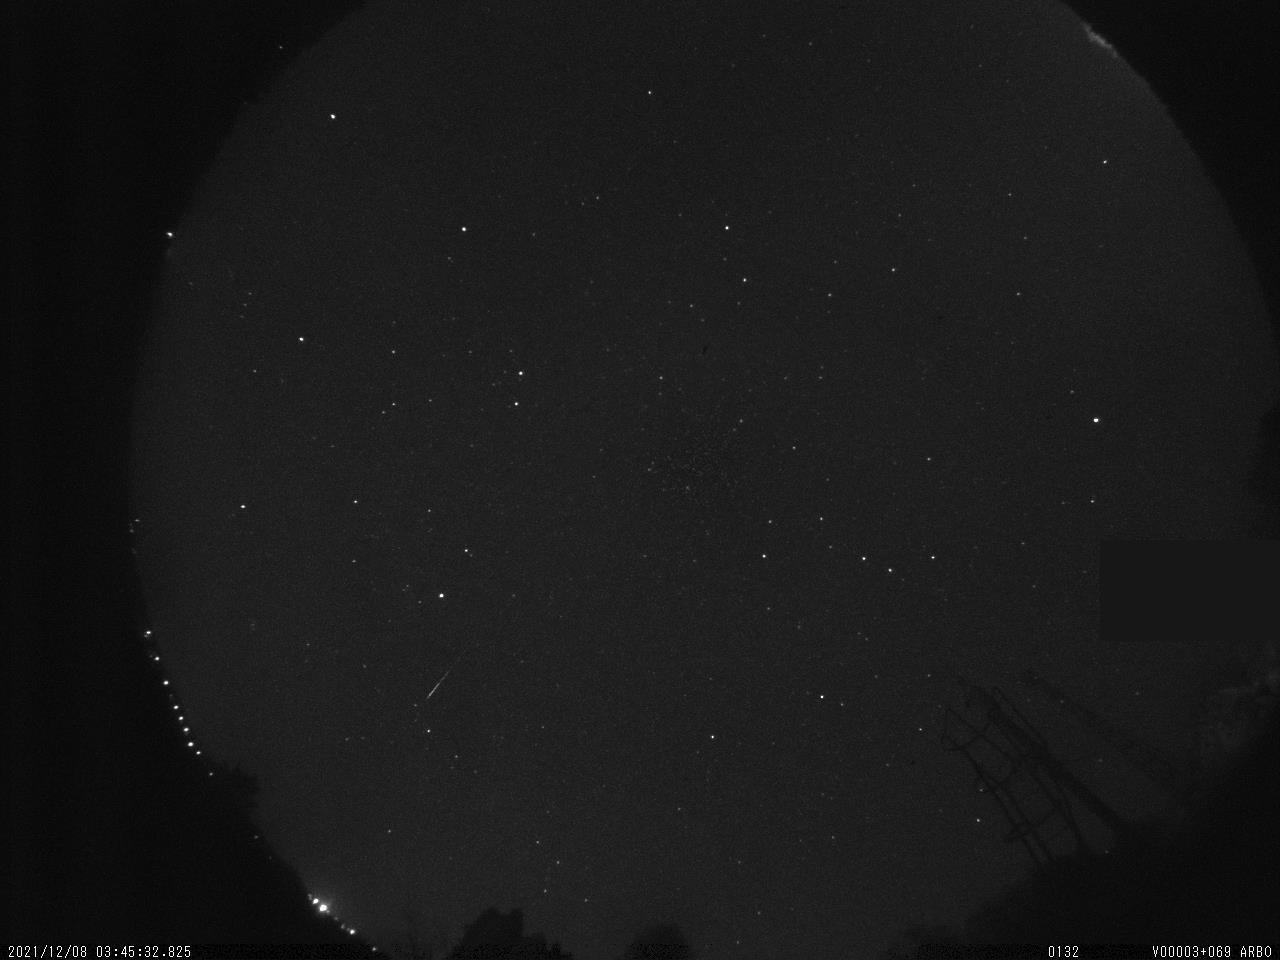meteor: (407, 646, 486, 711)
